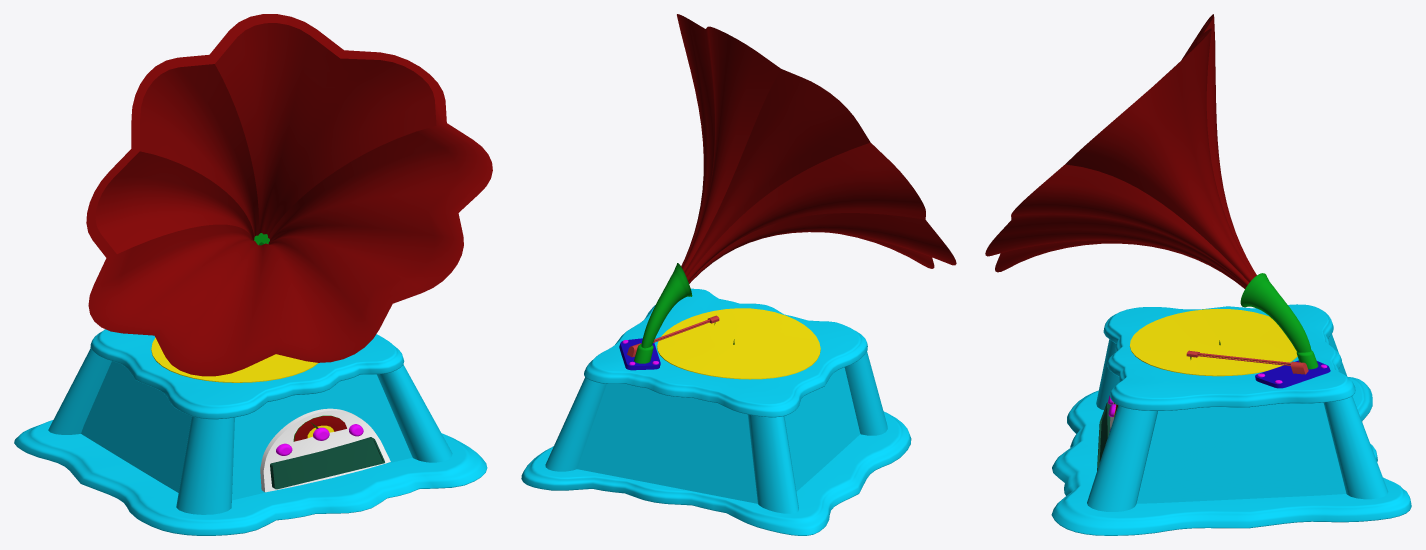
The model's file is GRAMOPHONE.fbx.
3 renders of one model, left to right at view 1: azimuth 30°, elevation 25°; view 2: azimuth 150°, elevation 25°; view 3: azimuth 270°, elevation 25°, orthographic. The views are drawn at different scales.
Parts seen in each view (by area): view 1: GRAMOPHONE; view 2: GRAMOPHONE; view 3: GRAMOPHONE.
Part boxes in pixels (x1,y1,x2,y2): GRAMOPHONE: (14, 14, 492, 535); GRAMOPHONE: (521, 14, 956, 535); GRAMOPHONE: (985, 14, 1411, 535).
Bounding box in the file's own units: 1.03 × 1.18 × 1.07.
